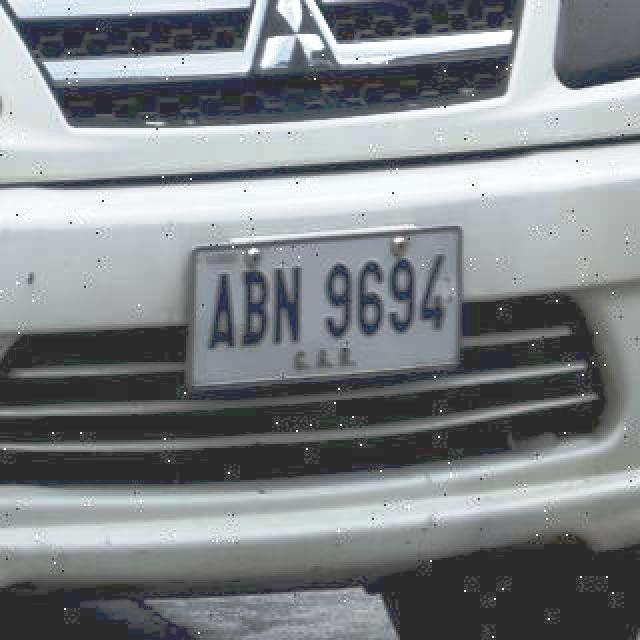license_plate: (194, 228, 465, 384)
